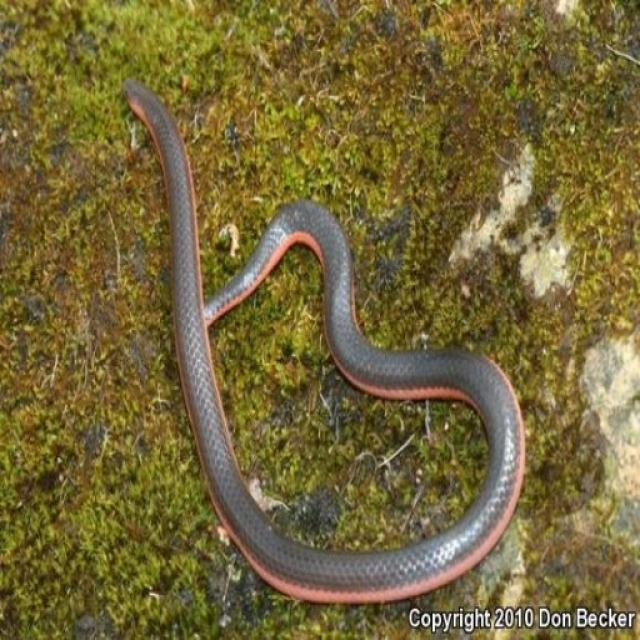snake: (106, 71, 554, 608)
